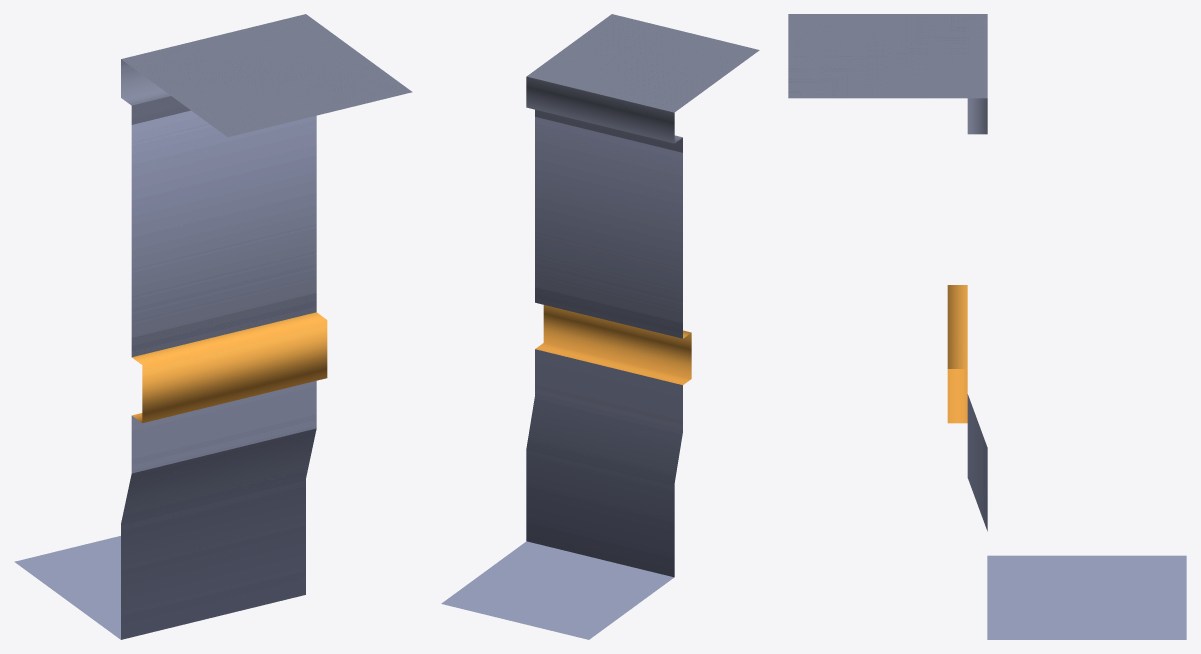
File: structure-wall.glb
The picture shows the model from 3 angles, left to right: view 1: azimuth 30°, elevation 25°; view 2: azimuth 150°, elevation 25°; view 3: azimuth 270°, elevation 25°; orthographic projection. The views are drawn at different scales.
Visible parts, largest first — view 1: structure-wall; view 2: structure-wall; view 3: structure-wall.
Boxes of the visible parts, bbox=[...] form: structure-wall: bbox=[14, 14, 412, 639]; structure-wall: bbox=[441, 14, 759, 639]; structure-wall: bbox=[788, 14, 1186, 639].
Bounding box in the file's own units: 1 × 3 × 2.
1 material, 1 textured.
